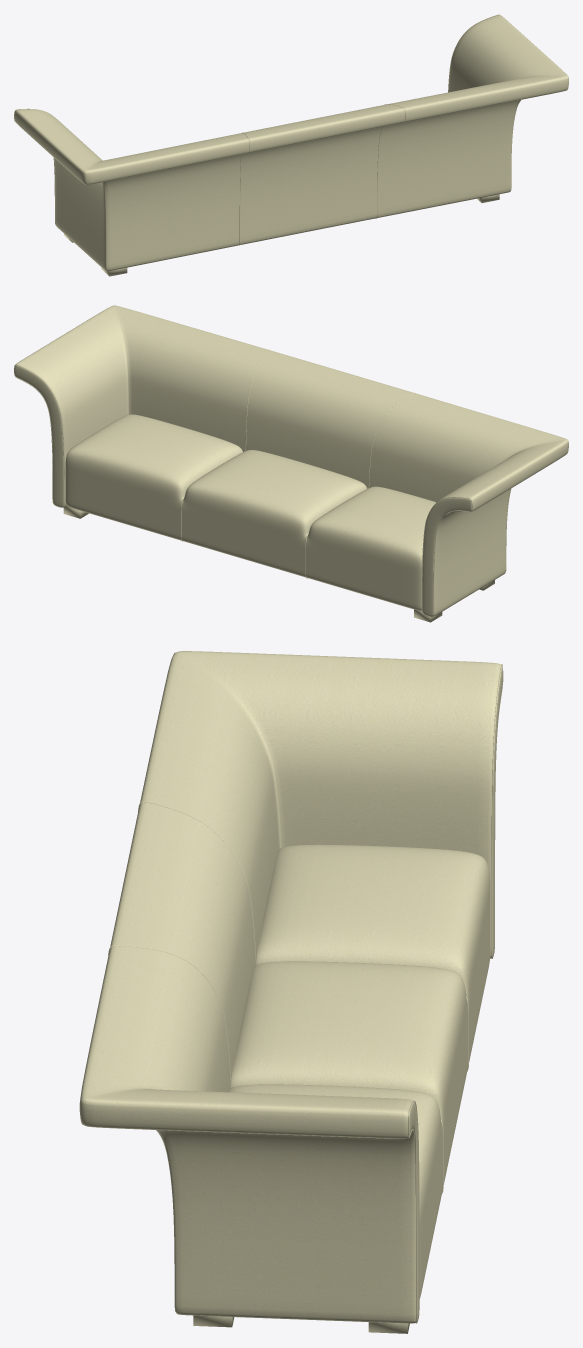
The model's file is sofa.obj.
3 renders of one model, top to bottom at view 1: azimuth 30°, elevation 25°; view 2: azimuth 150°, elevation 25°; view 3: azimuth 270°, elevation 25°, orthographic. The views are drawn at different scales.
Visible parts, largest first — view 1: Box02.001; view 2: Box02.001, Box01.001, Shape.001; view 3: Box02.001, Box01.001, Shape.001.
Boxes of the visible parts, box(x1,y1,x2,y2) form: Box02.001: box(14, 14, 568, 271); Box02.001: box(14, 305, 568, 616); Box01.001: box(65, 414, 435, 610); Shape.001: box(14, 364, 472, 616); Box02.001: box(79, 651, 503, 1323); Box01.001: box(228, 844, 490, 1298); Shape.001: box(408, 664, 502, 1323).
Size of the model in its own units: 27.95 by 7.53 by 10.79.
